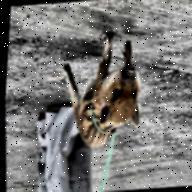boar: (58, 28, 155, 151)
